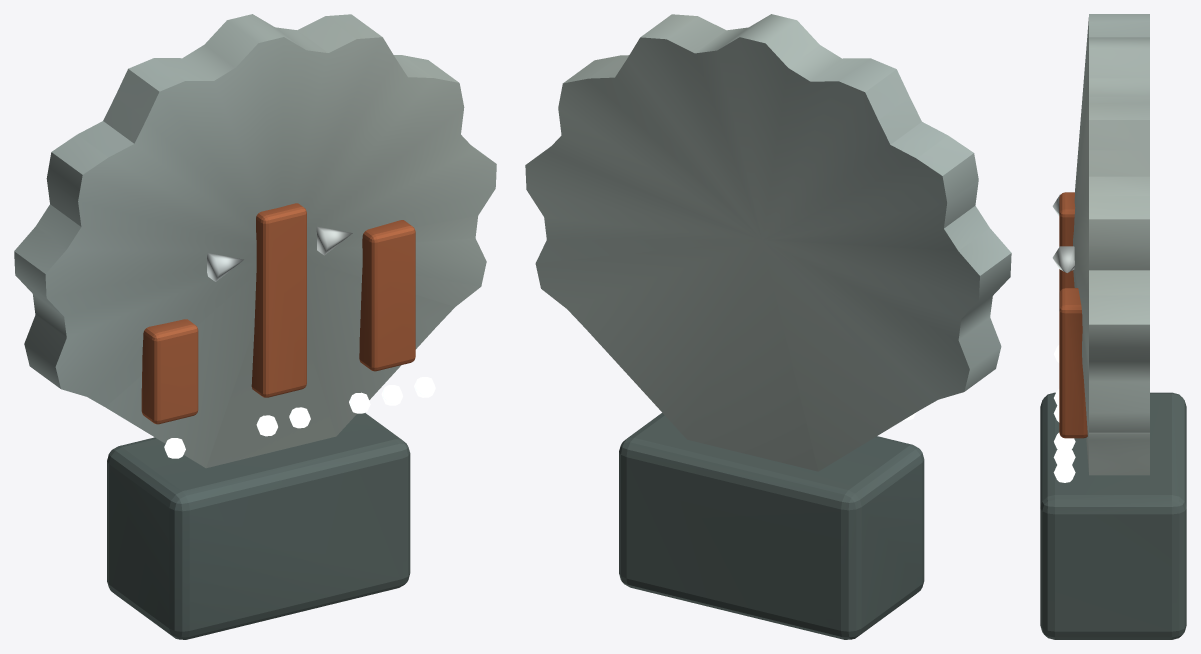
Rendered from grotto_organ_plaque.glb.
The picture shows the model from 3 angles, left to right: view 1: azimuth 30°, elevation 25°; view 2: azimuth 150°, elevation 25°; view 3: azimuth 270°, elevation 25°; orthographic projection. The views are drawn at different scales.
Visible parts, largest first — view 1: grotto_organ_plaque; view 2: grotto_organ_plaque; view 3: grotto_organ_plaque.
Boxes of the visible parts, x1,y1,x2,y2 form: grotto_organ_plaque: (14, 14, 496, 639); grotto_organ_plaque: (525, 14, 1011, 639); grotto_organ_plaque: (1040, 14, 1186, 639).
Bounding box in the file's own units: 4.15 × 4.93 × 1.2.
